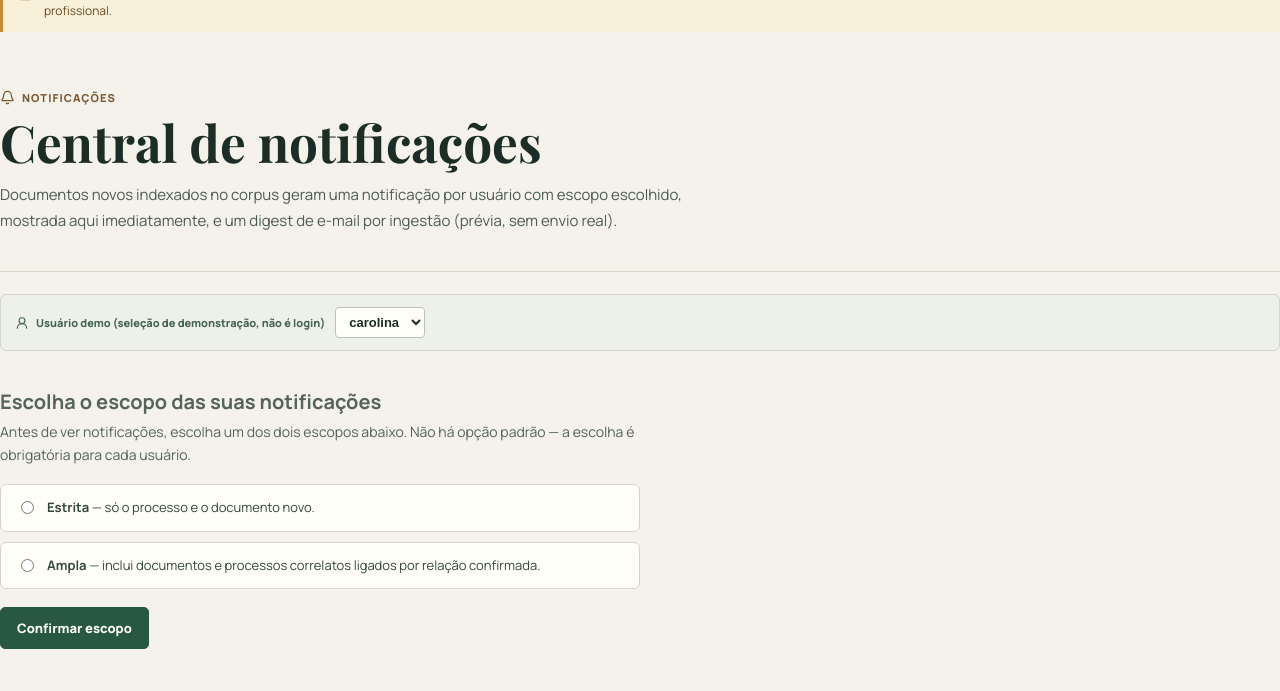
Scenario: NotificationsPage › escolher escopo libera a lista de notificações e prévias
Expected: the heading "Escolha o escopo das suas notificações" is shown, [0,388,381,416]
Click the radio button labelled "Estrita — só o processo e o documento novo.". click: (28, 508)
box: [21,501,34,514]
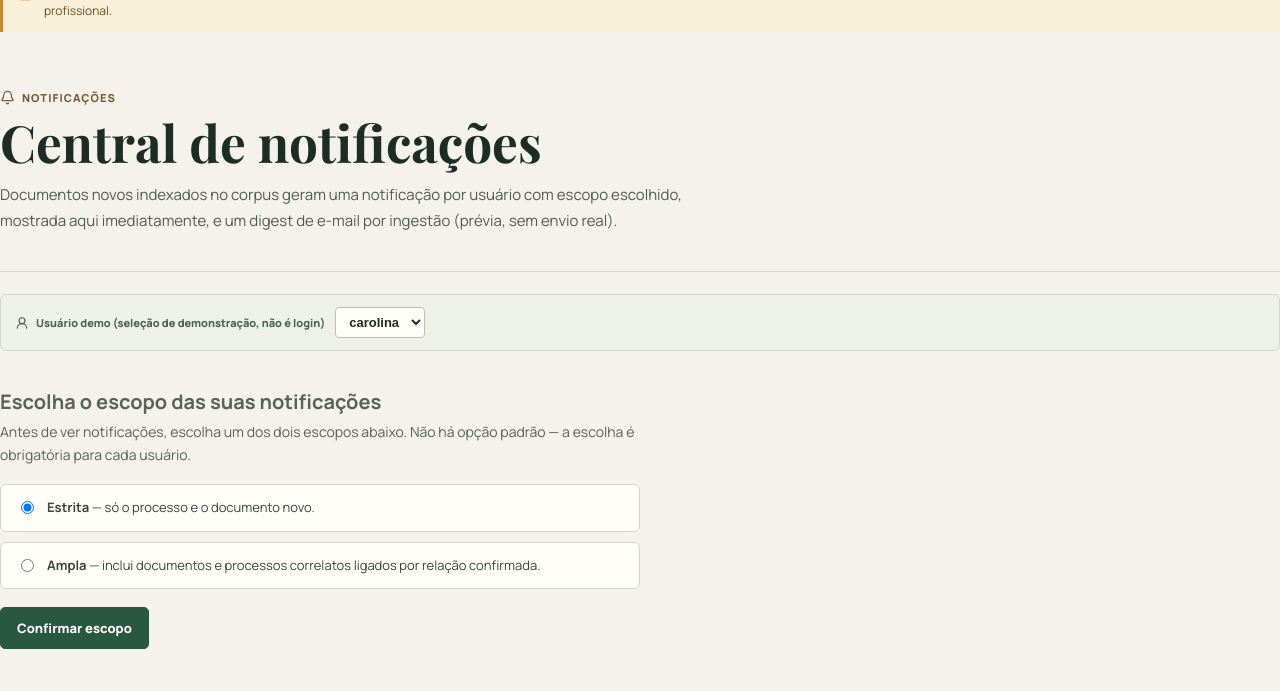
Click the button "Confirmar escopo". click: (74, 628)
box: [0,607,149,649]
(page scrolled)
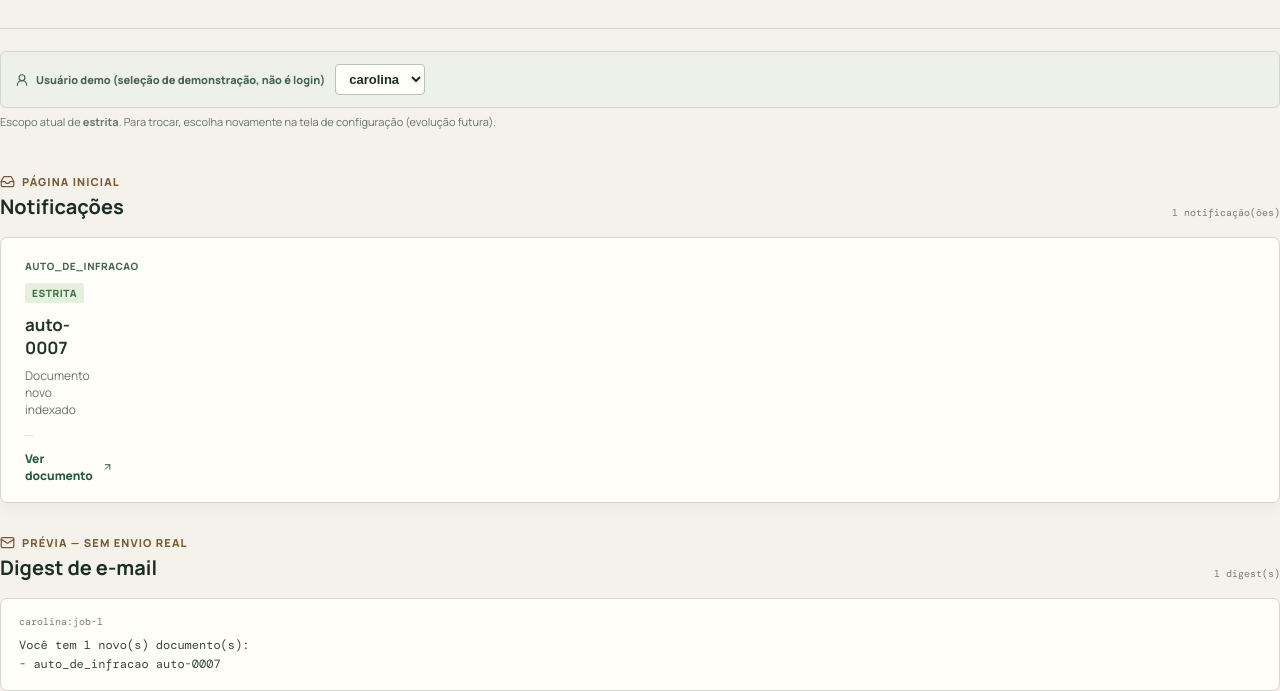
Expected: the text "auto_de_infracao" is shown, [25,259,139,273]
Expected: the text "Você tem 1 novo" is shown, [19,637,249,672]
